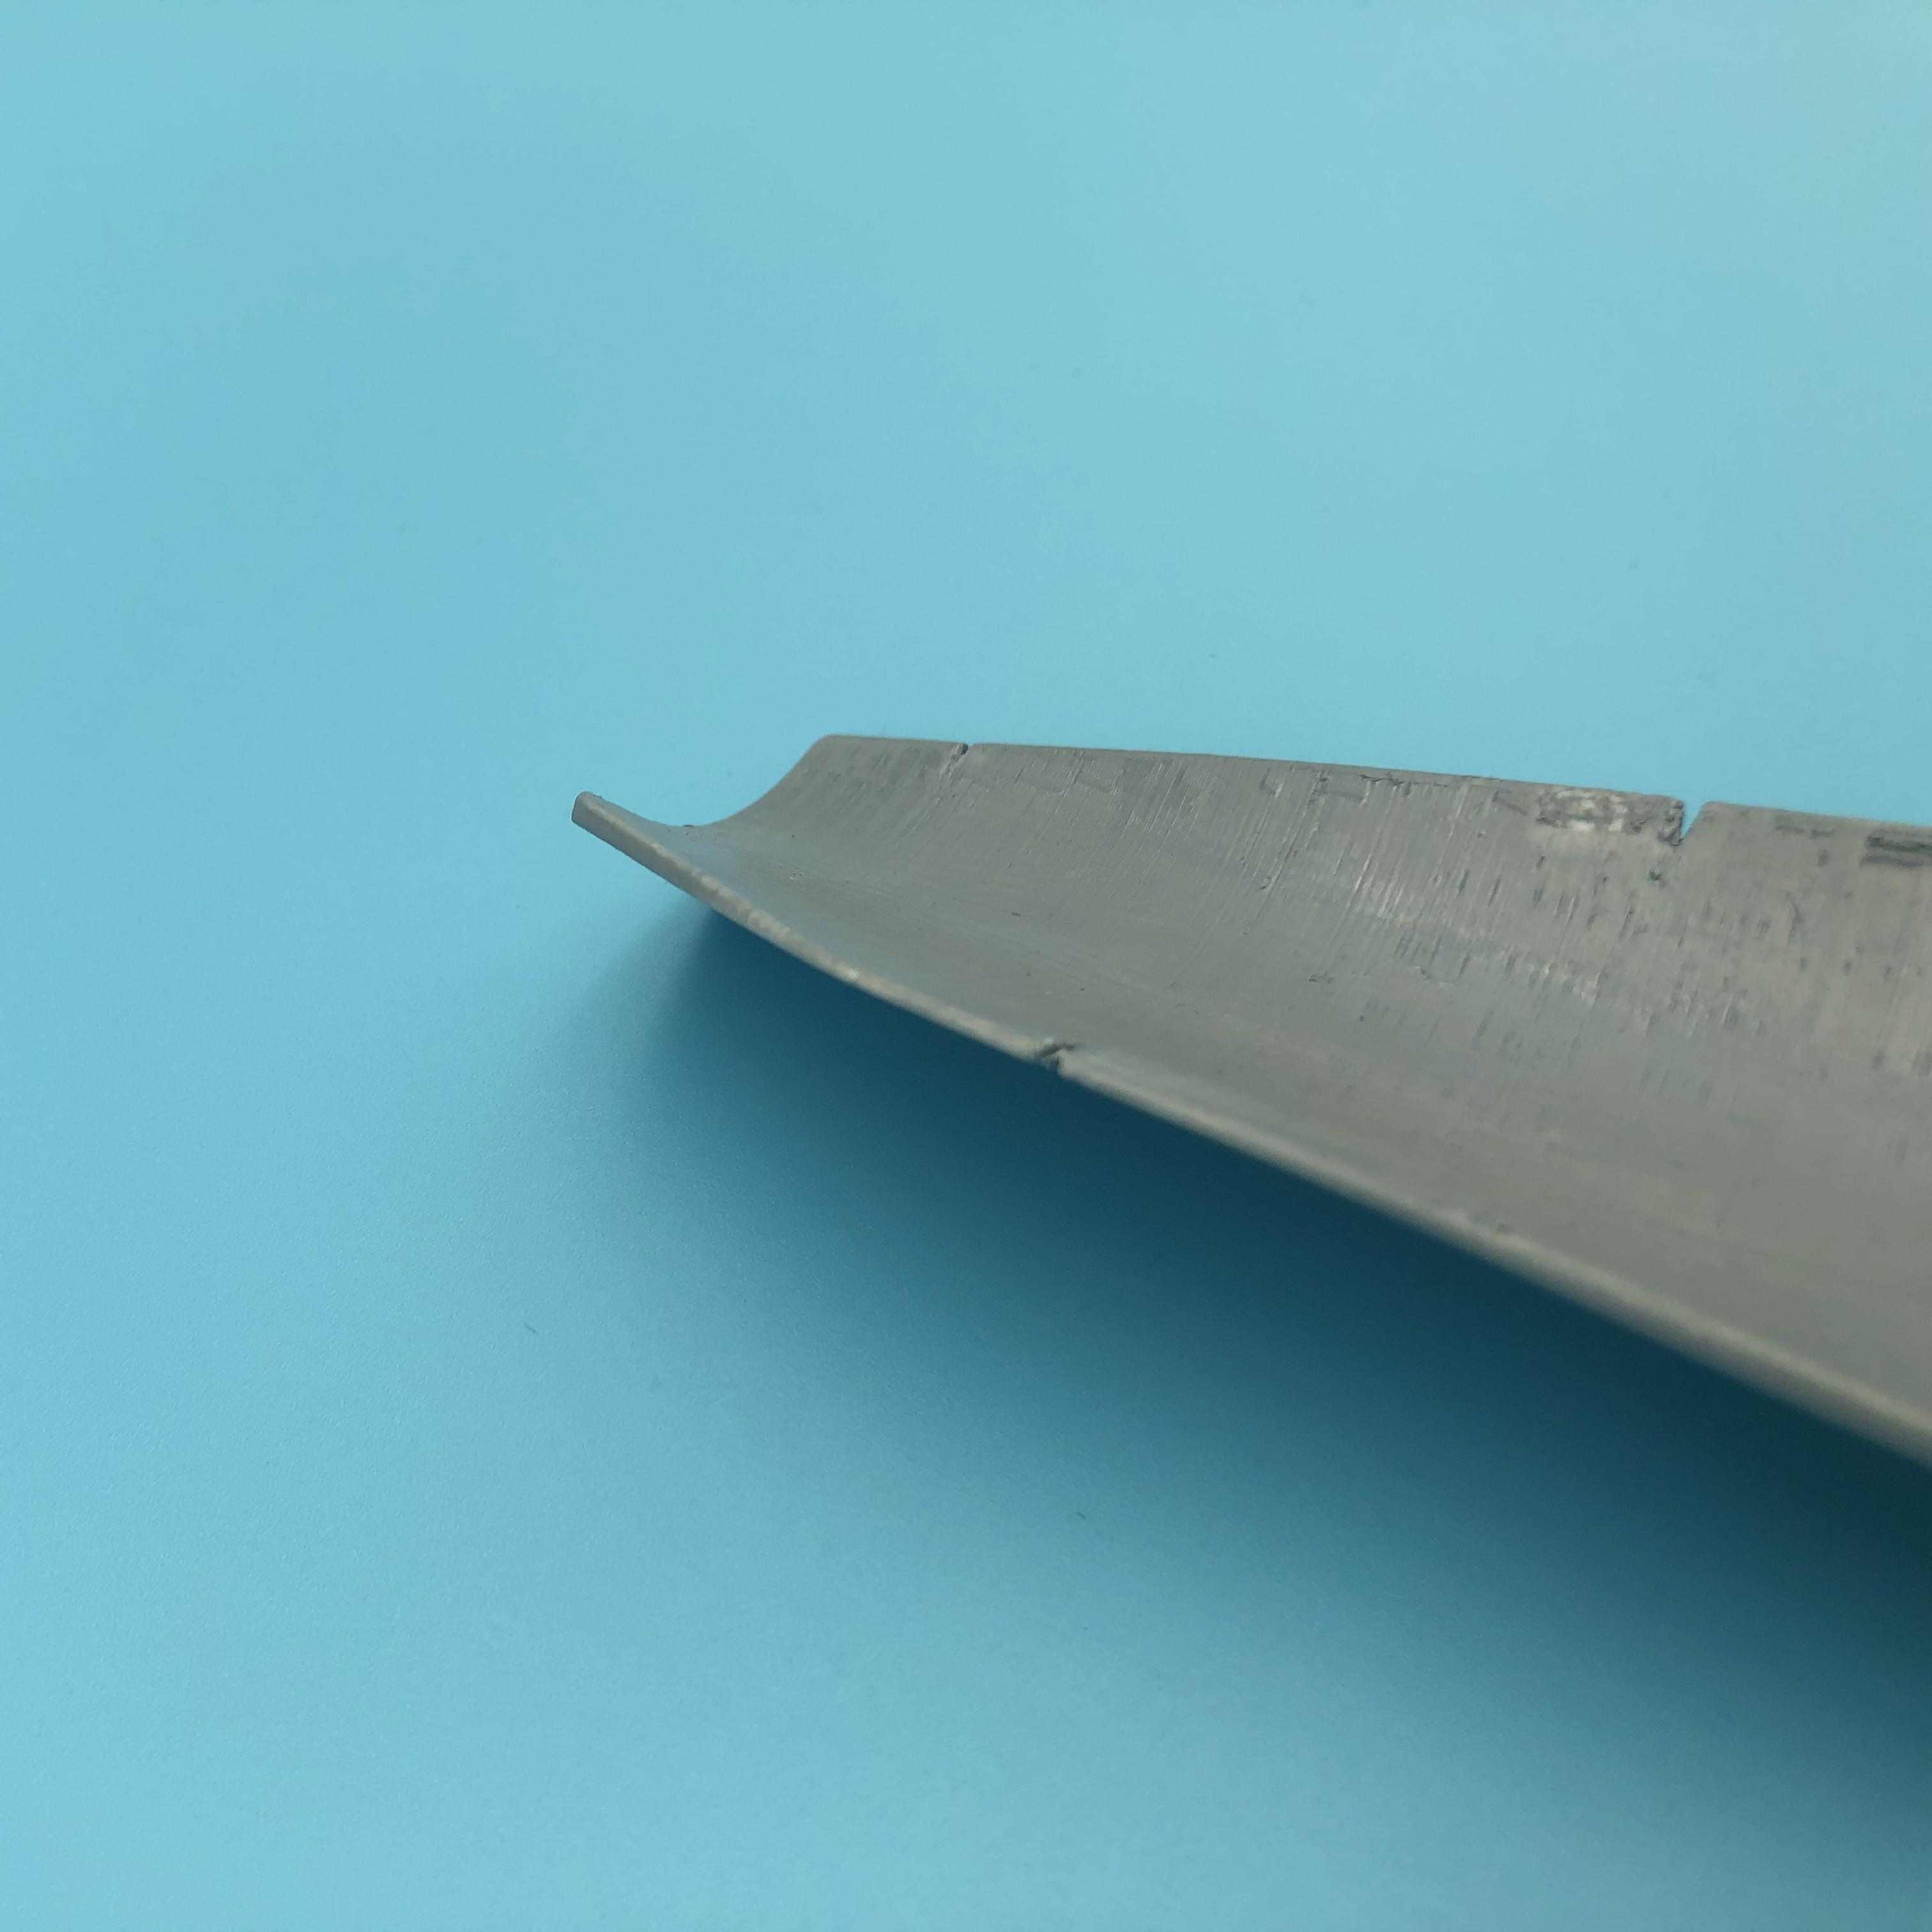groove: (1023, 1030, 1109, 1069), (1649, 801, 1727, 842), (945, 738, 991, 770)
